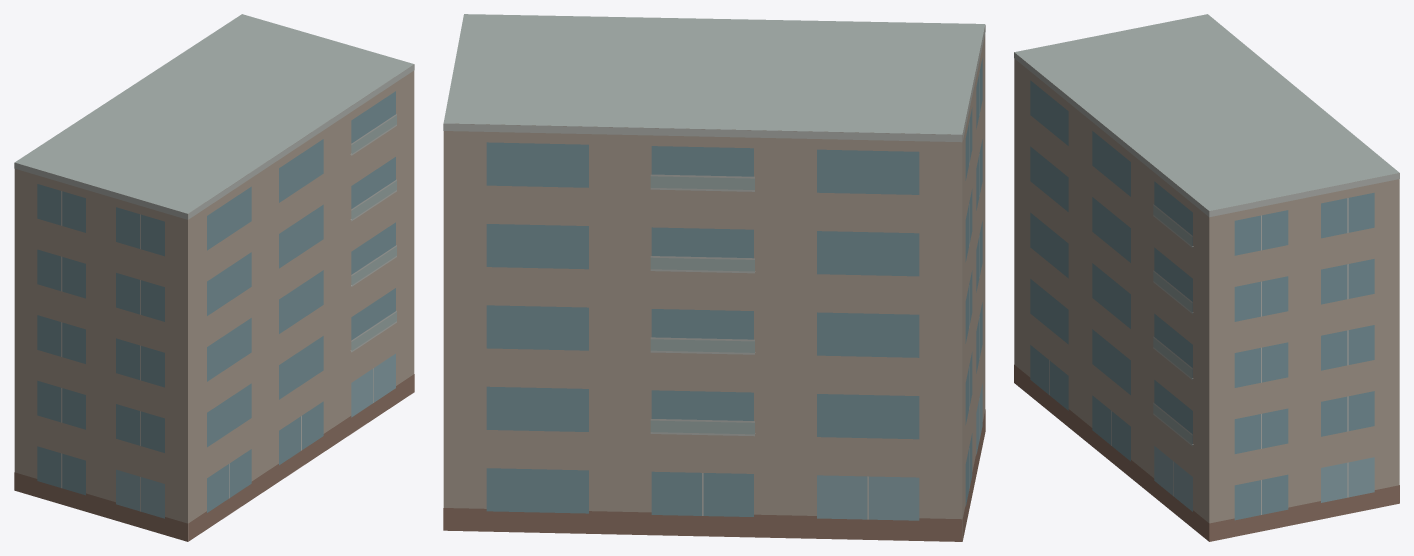
Rendered from survey-upis-32851180.glb.
3 views of the same model, side by side, from view 1: azimuth 30°, elevation 25°; view 2: azimuth 150°, elevation 25°; view 3: azimuth 270°, elevation 25° (orthographic). The views are drawn at different scales.
Parts seen in each view (by area): view 1: survey-upis-32851180.tmp; view 2: survey-upis-32851180.tmp; view 3: survey-upis-32851180.tmp.
Part boxes in pixels (box(x1,y1,x2,y2)): survey-upis-32851180.tmp: box(14, 14, 414, 541); survey-upis-32851180.tmp: box(443, 14, 985, 541); survey-upis-32851180.tmp: box(1014, 14, 1399, 541).
Bounding box in the file's own units: 16.95 × 13.25 × 14.02.
